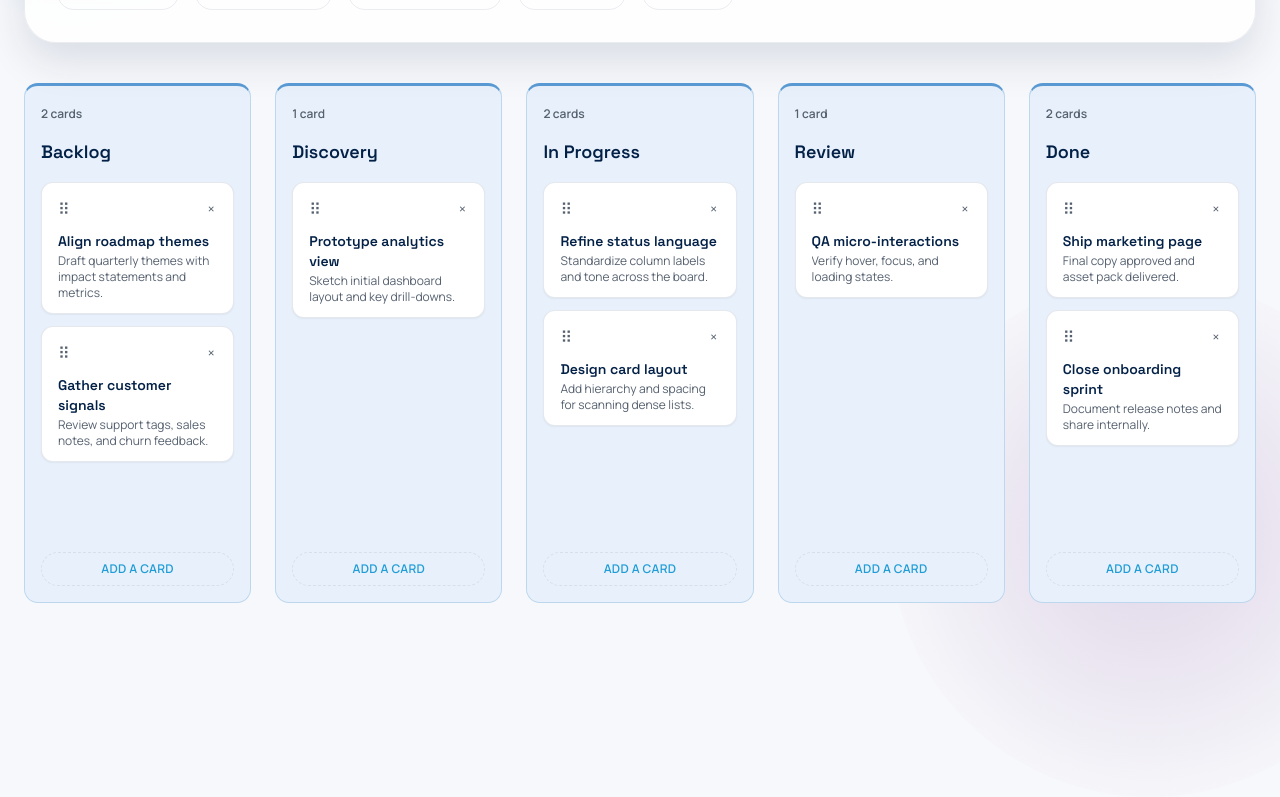
it: KanbanBoard › adds and removes a card
The width and height of the screenshot is (1280, 797).
(page scrolled)
Click the button "Add a card" below "Gather customer signals" at {"x": 138, "y": 569}, box [41,552,234,586]
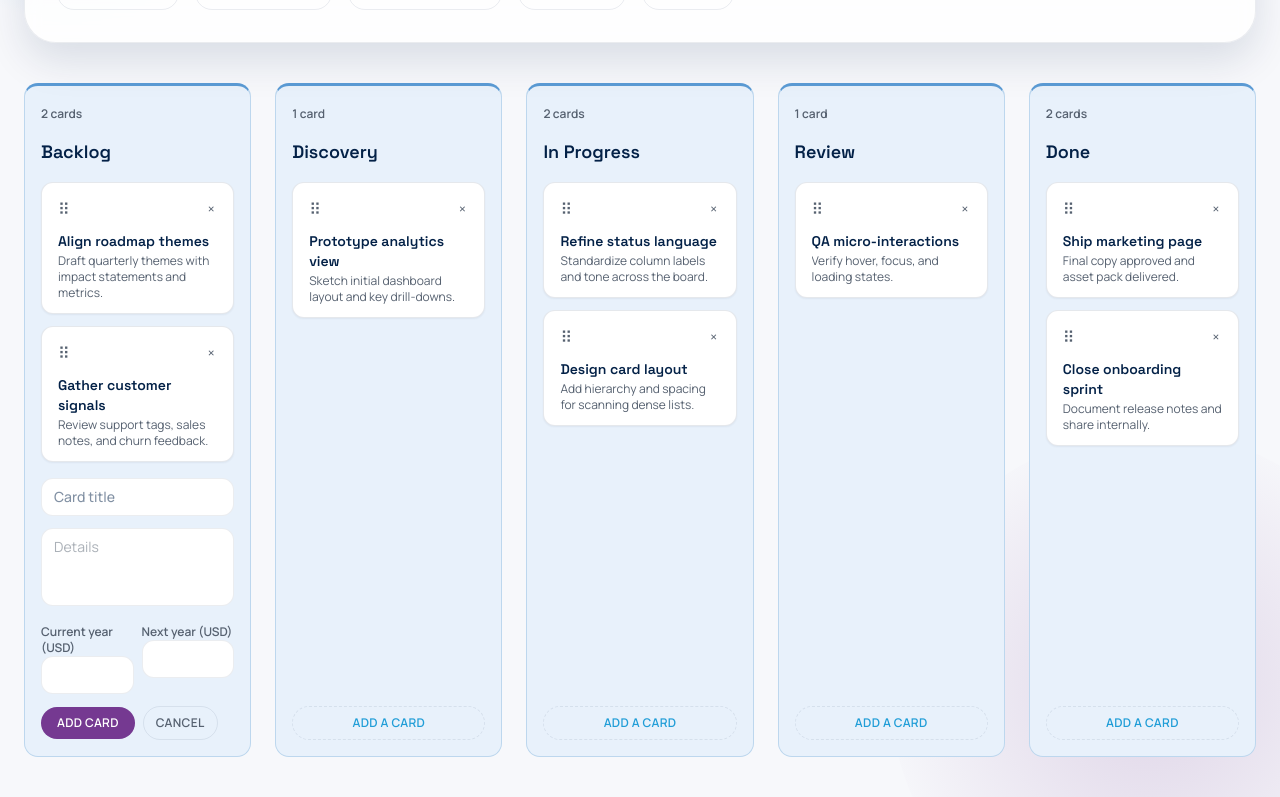
Type "New card" into the field with placeholder "Card title" at {"x": 138, "y": 497}, box [41,478,234,516]
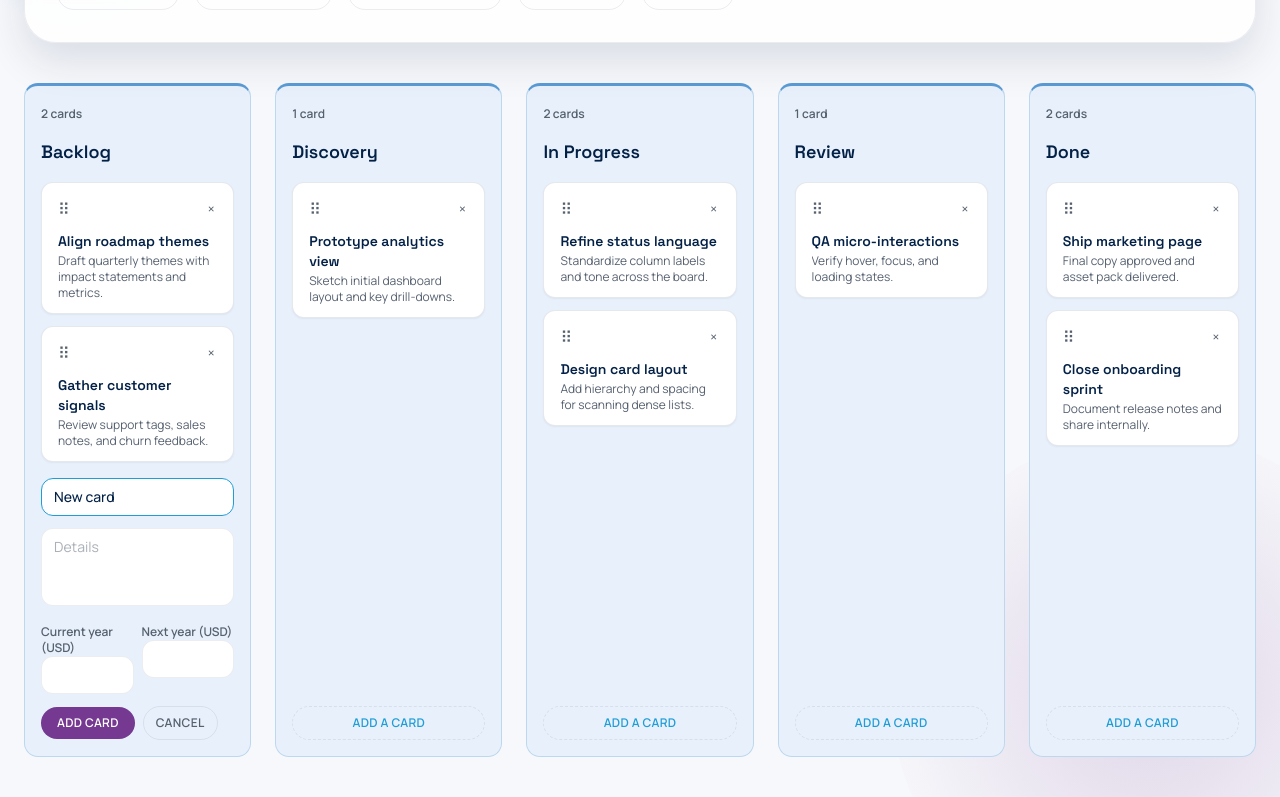
Type "Notes" into the text box with placeholder "Details" at {"x": 138, "y": 567}, box [41,528,234,606]
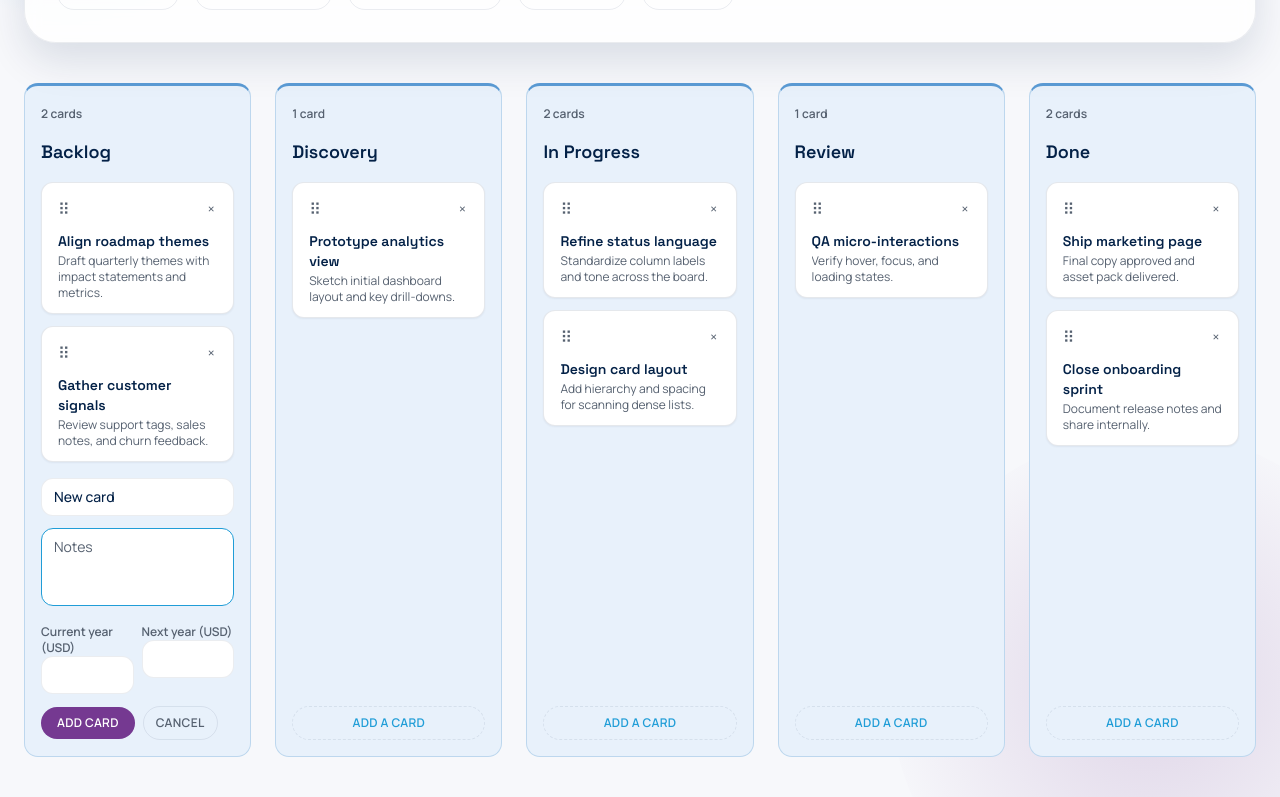
Click the button "Add card" at {"x": 88, "y": 723}, box [41,707,135,739]
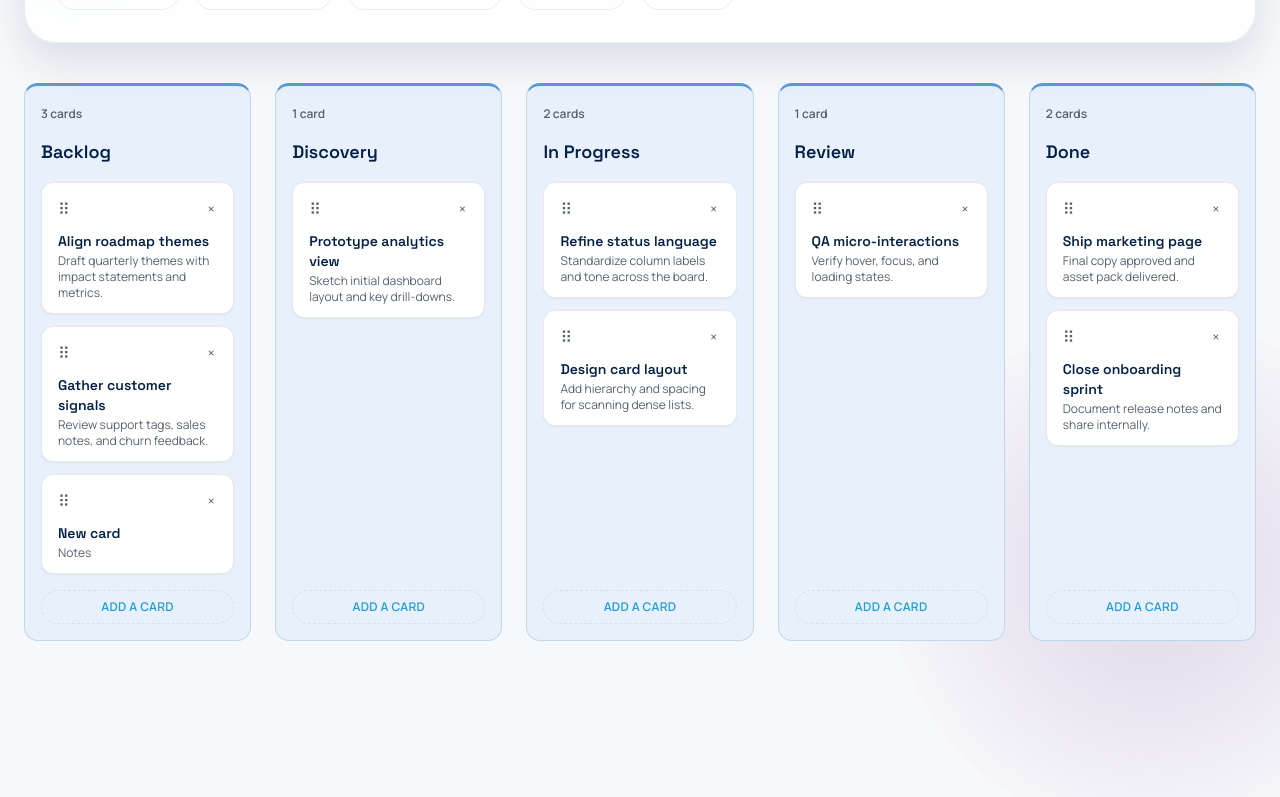
Result: the text "New card" is shown at [58,524,120,542]
Click the button named "delete new card" at {"x": 211, "y": 501}, box [201,491,221,511]
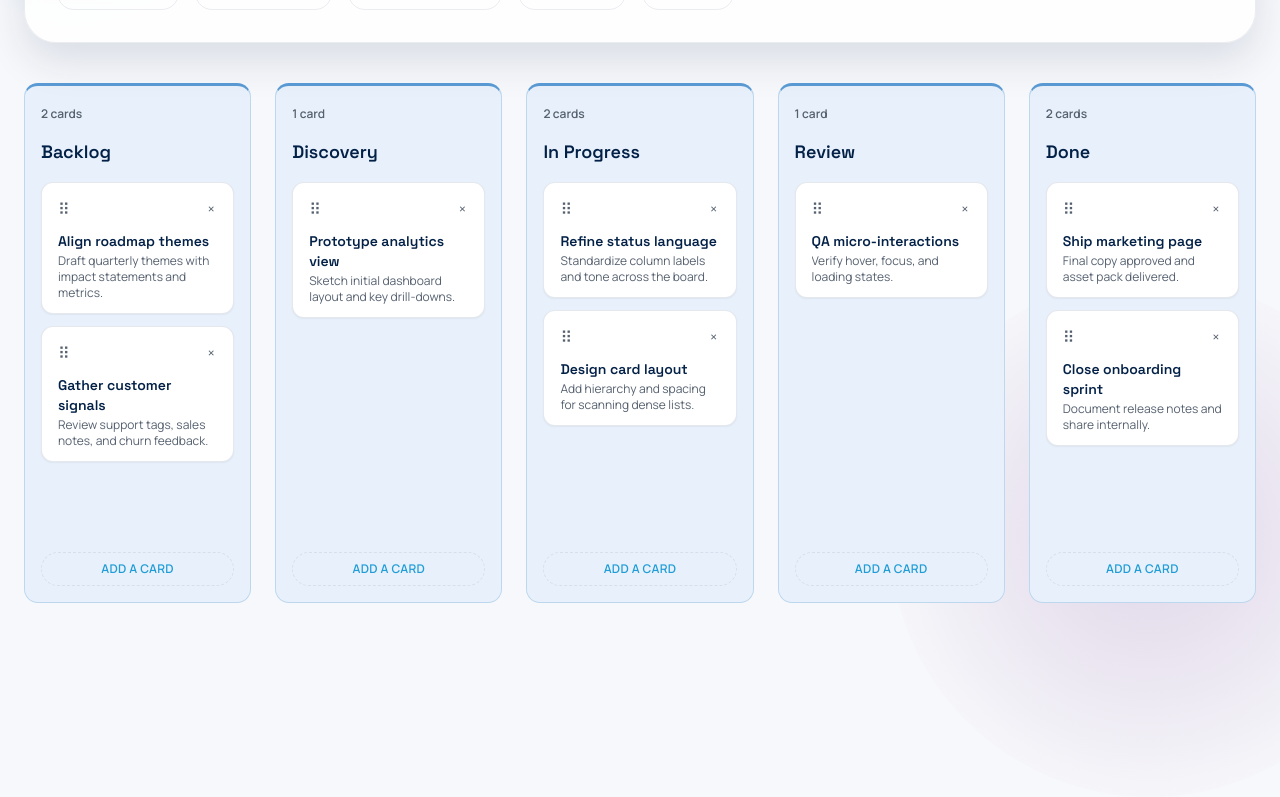
Result: the text "New card" is gone
